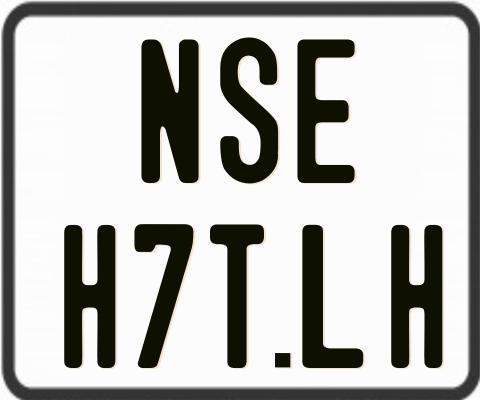7: (133, 222, 194, 372)
E: (294, 38, 355, 184)
H: (63, 222, 118, 365), (390, 222, 443, 367)
L: (300, 225, 366, 368)
N: (140, 38, 201, 188)
S: (219, 35, 281, 183)
T: (207, 224, 261, 371)
